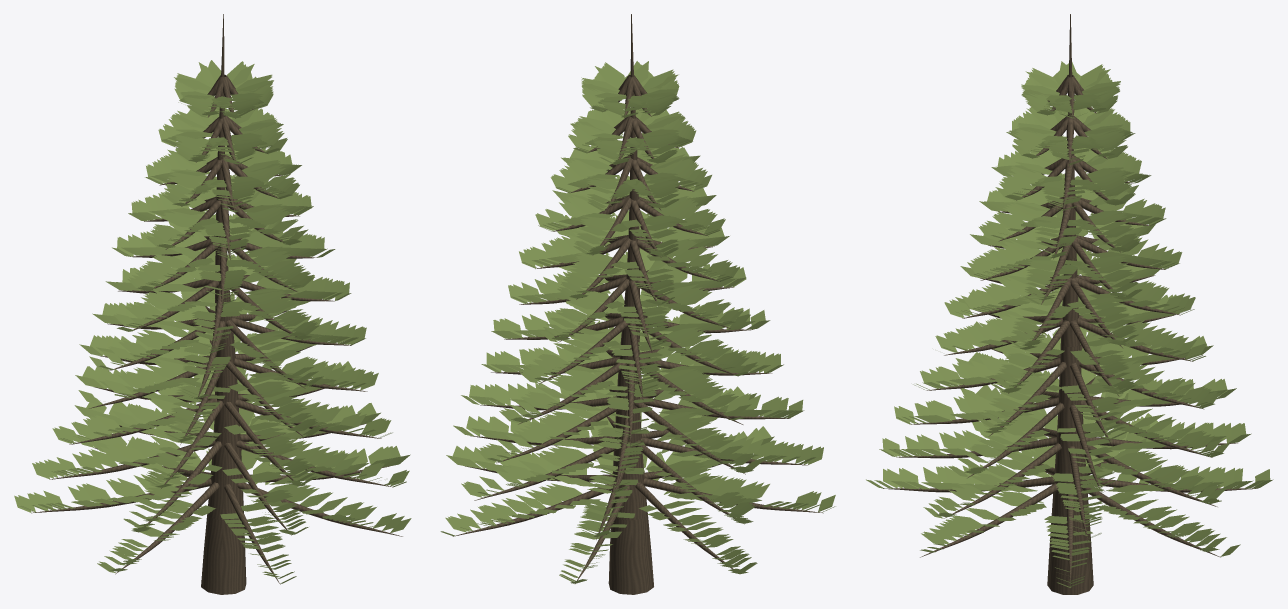
The model's file is pine_tree.glb.
3 renders of one model, left to right at view 1: azimuth 30°, elevation 25°; view 2: azimuth 150°, elevation 25°; view 3: azimuth 270°, elevation 25°, orthographic.
Visible parts, largest first — view 1: Tree_leaf_green, Tree_bark; view 2: Tree_leaf_green, Tree_bark; view 3: Tree_leaf_green, Tree_bark.
Part boxes in pixels (bbox=[...]): Tree_leaf_green: bbox=[14, 60, 411, 583]; Tree_bark: bbox=[31, 14, 402, 594]; Tree_leaf_green: bbox=[440, 61, 835, 583]; Tree_bark: bbox=[452, 14, 823, 594]; Tree_leaf_green: bbox=[866, 61, 1273, 587]; Tree_bark: bbox=[883, 14, 1258, 594].
Size of the model in its own units: 4.26 by 6.7 by 4.34.
Materials: 2 (1 with a texture image).
